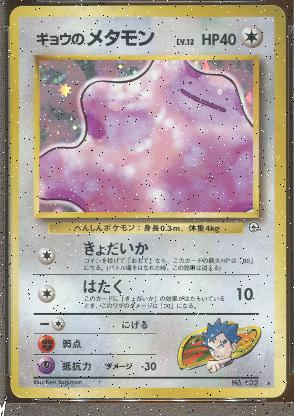Card: (6, 4, 288, 400)
